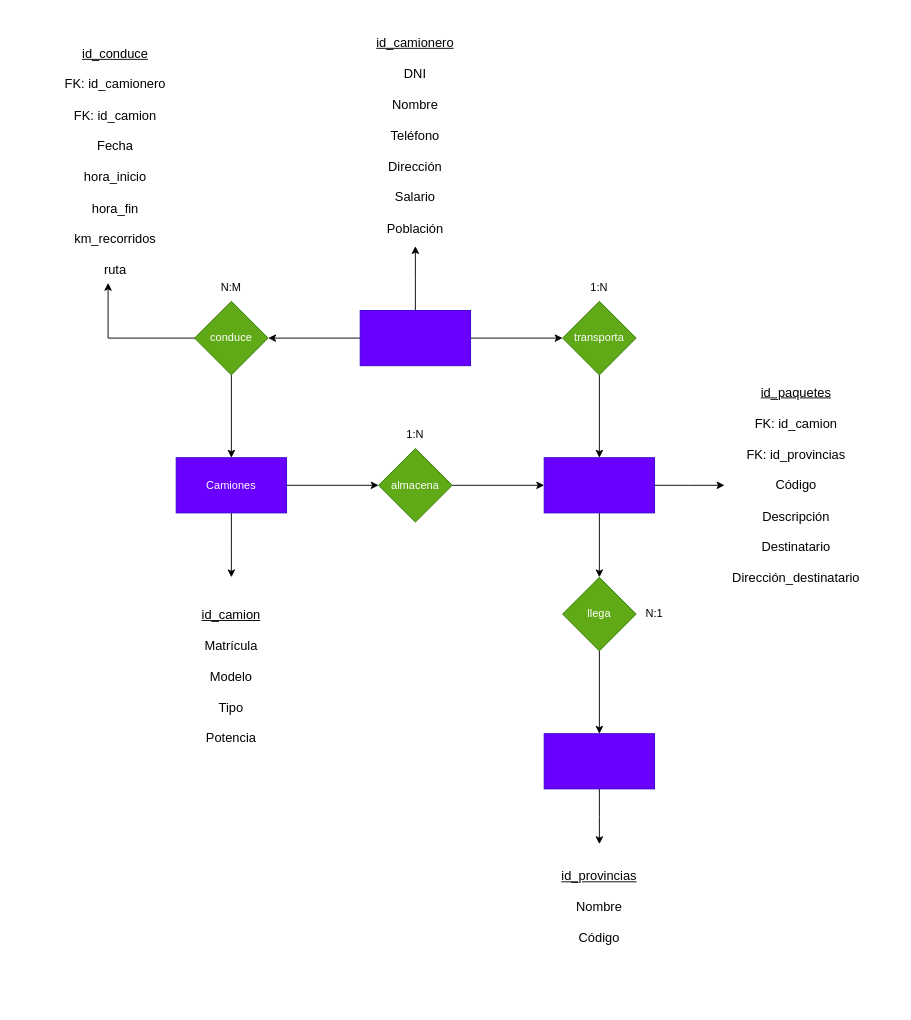
Some shapes in this 911 by 1020 pixel diagram are drawn without their labels. Here are the shapes that lost their labels. From the top down, the centre of each, then its label:
At point 415,338: "Camioneros".
At point 599,485: "Paquetes".
At point 599,761: "Provincias".
